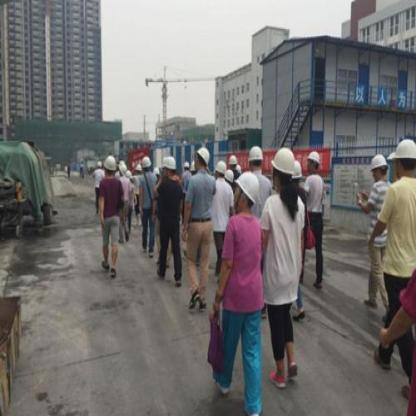helmet: (236, 172, 265, 216), (272, 147, 299, 192), (392, 137, 416, 182), (368, 151, 388, 188), (247, 143, 266, 175), (193, 146, 211, 172), (306, 148, 320, 176), (102, 154, 116, 178), (163, 154, 176, 176), (140, 153, 153, 175), (214, 158, 226, 181), (117, 162, 128, 180), (228, 153, 237, 169)
